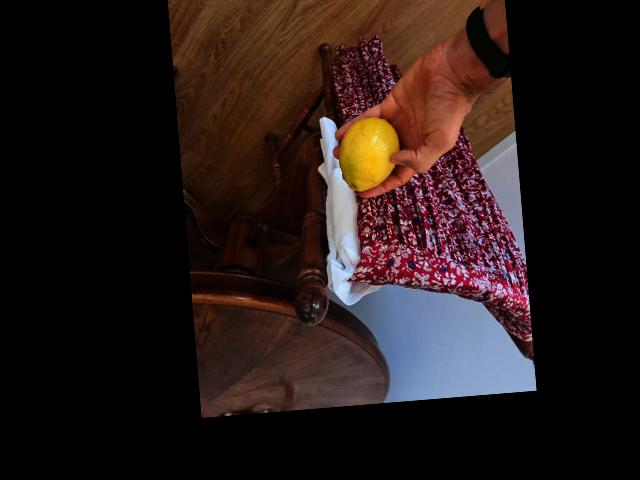lemon: (335, 114, 403, 192)
